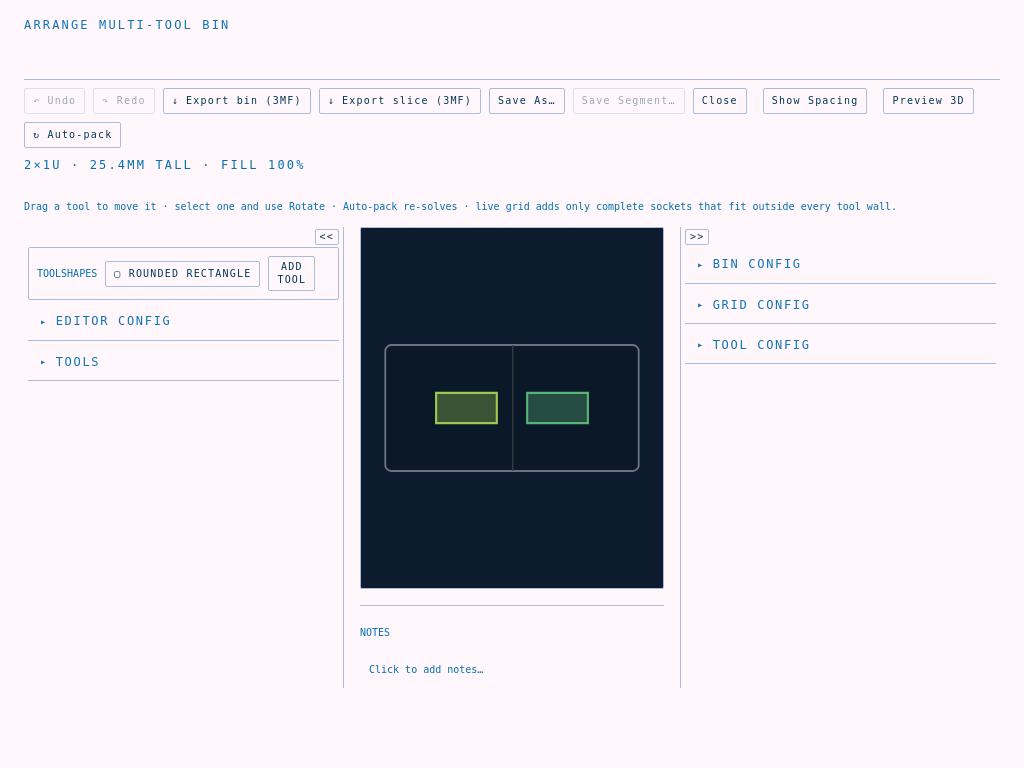
Test: CombineEditor toolshapes › clicking the palette control opens the param panel with defaults
Click the button "▢ Rounded Rectangle". click: (183, 274)
box: top-left (105, 261), bottom-right (260, 287)
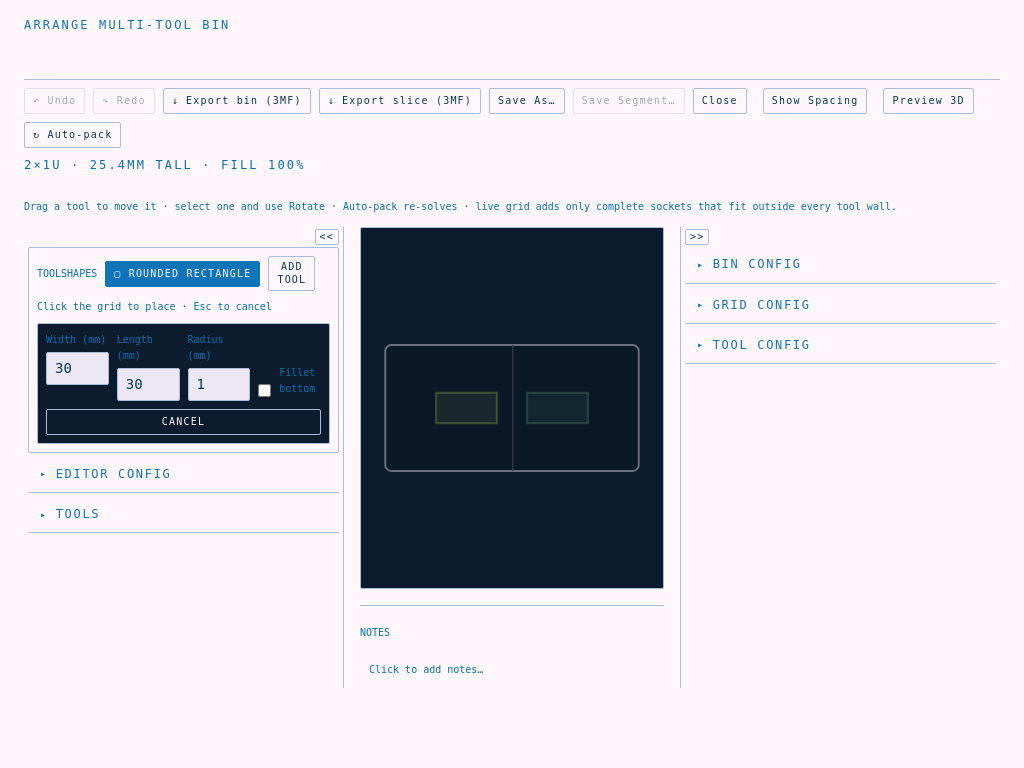
Expected: the number field named "New toolshape width in millimetres" holds "30", top-left (46, 352), bottom-right (109, 385)
Expected: the number field named "New toolshape length in millimetres" holds "30", top-left (117, 368), bottom-right (180, 401)
Expected: the number field named "New toolshape corner radius in millimetres" holds "1", top-left (188, 368), bottom-right (250, 401)
